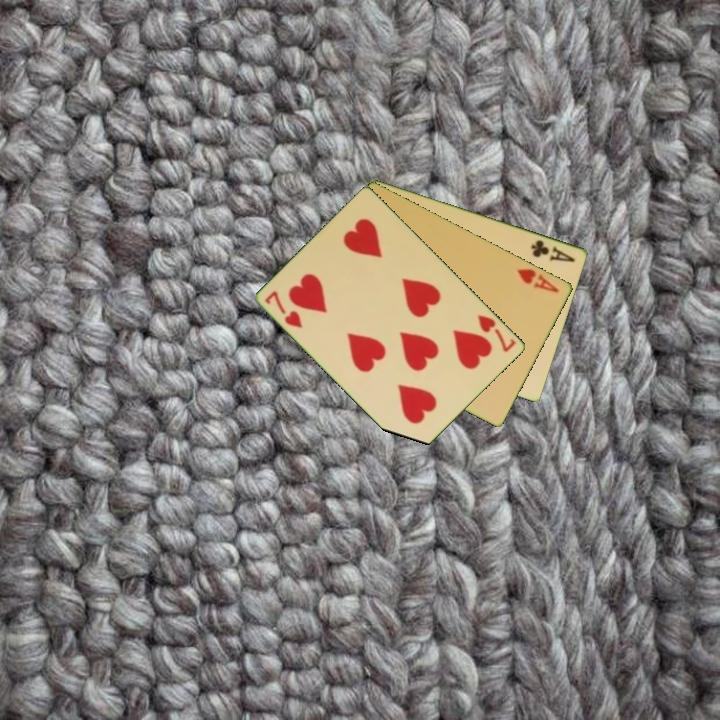7h: (474, 311, 519, 355), (261, 287, 306, 331)
Ac: (528, 236, 579, 265)
Ah: (514, 265, 562, 295)
